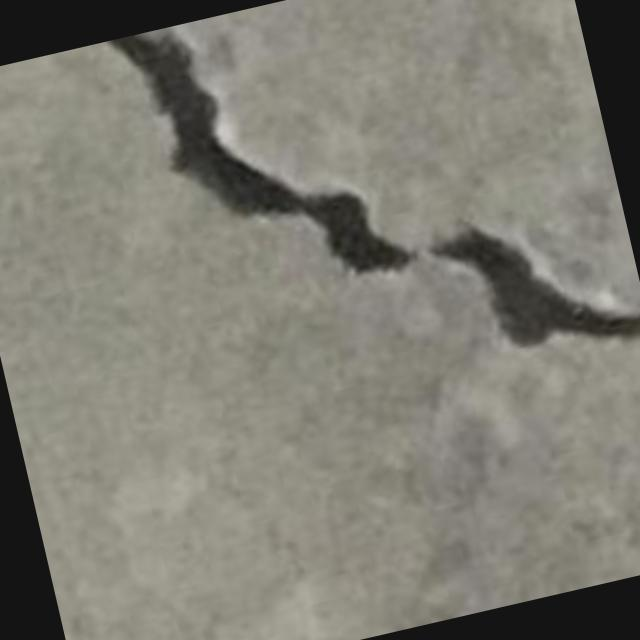crack: (110, 33, 414, 273), (433, 226, 639, 346)
